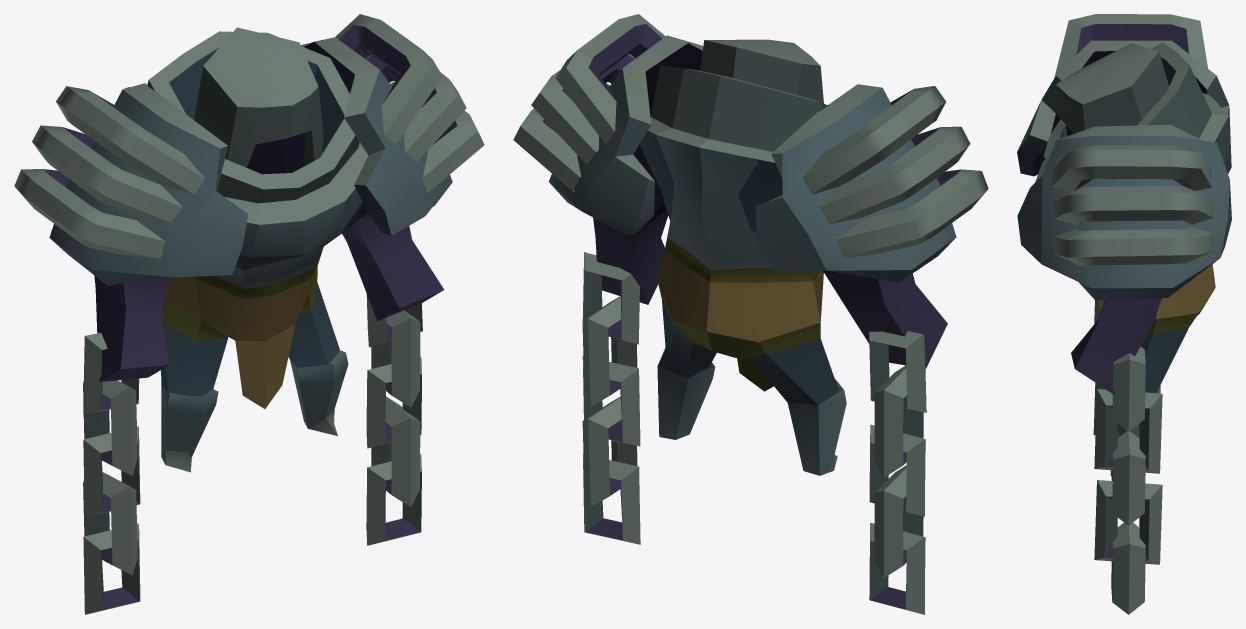
File: цепи.fbx
3 renders of one model, left to right at view 1: azimuth 30°, elevation 25°; view 2: azimuth 150°, elevation 25°; view 3: azimuth 270°, elevation 25°, orthographic. The views are drawn at different scales.
Visible parts, largest first — view 1: pTorus20; view 2: pTorus20; view 3: pTorus20.
Part boxes in pixels (x1=…): pTorus20: x1=14, y1=14, x2=484, y2=614; pTorus20: x1=513, y1=14, x2=988, y2=614; pTorus20: x1=1017, y1=14, x2=1231, y2=614.
Bounding box in the file's own units: 2.92 × 3.61 × 1.44.
